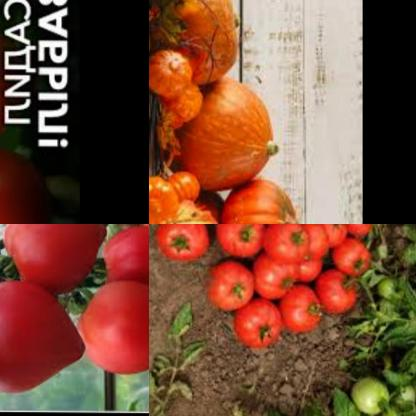pumpkin: (182, 82, 282, 196), (157, 0, 244, 91), (149, 49, 207, 130), (218, 178, 308, 224), (157, 191, 230, 224), (149, 168, 180, 224), (169, 167, 205, 206)
tomato: (0, 279, 91, 397), (0, 224, 109, 302), (77, 277, 149, 375), (0, 140, 49, 224), (100, 224, 149, 294), (208, 257, 259, 311), (234, 300, 282, 355), (158, 224, 211, 265), (317, 268, 363, 315), (284, 285, 324, 334), (248, 258, 297, 298), (268, 224, 312, 263), (335, 240, 375, 278), (220, 224, 261, 256), (317, 224, 348, 247), (338, 224, 380, 238)
